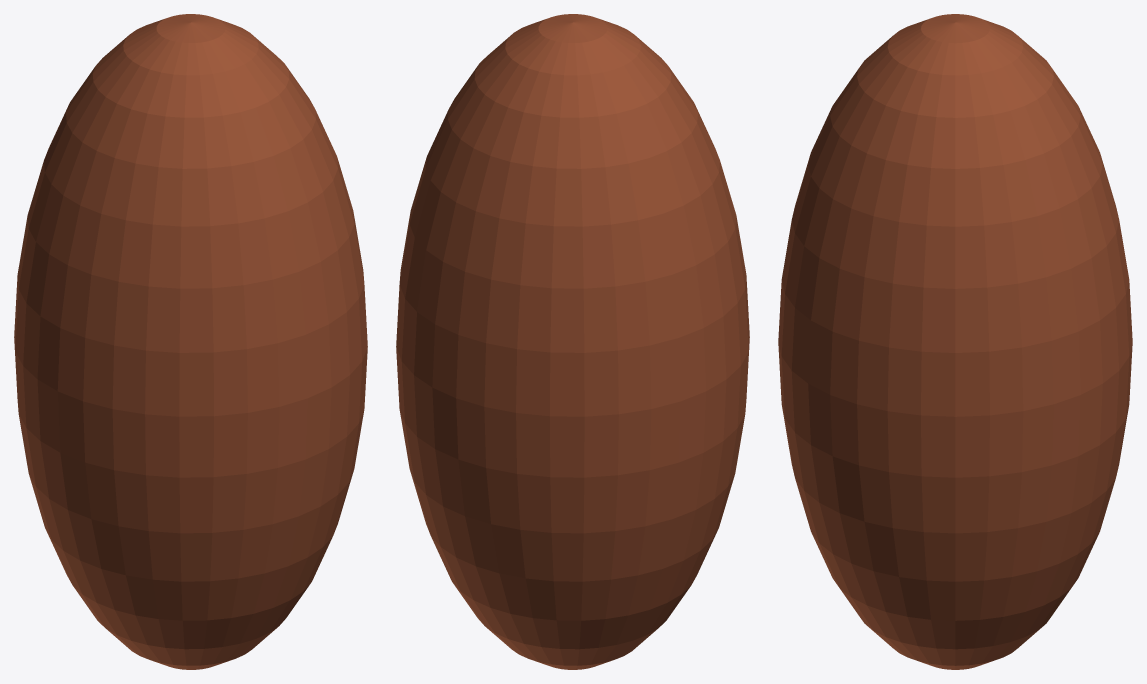
File: SEMILLA.fbx
The picture shows the model from 3 angles, left to right: view 1: azimuth 30°, elevation 25°; view 2: azimuth 150°, elevation 25°; view 3: azimuth 270°, elevation 25°; orthographic projection.
Visible parts, largest first — view 1: Esfera; view 2: Esfera; view 3: Esfera.
Part boxes in pixels (<box>): Esfera: <box>14,14,367,669</box>; Esfera: <box>396,14,749,669</box>; Esfera: <box>778,14,1132,669</box>.
Size of the model in its own units: 200 by 398 by 200.
